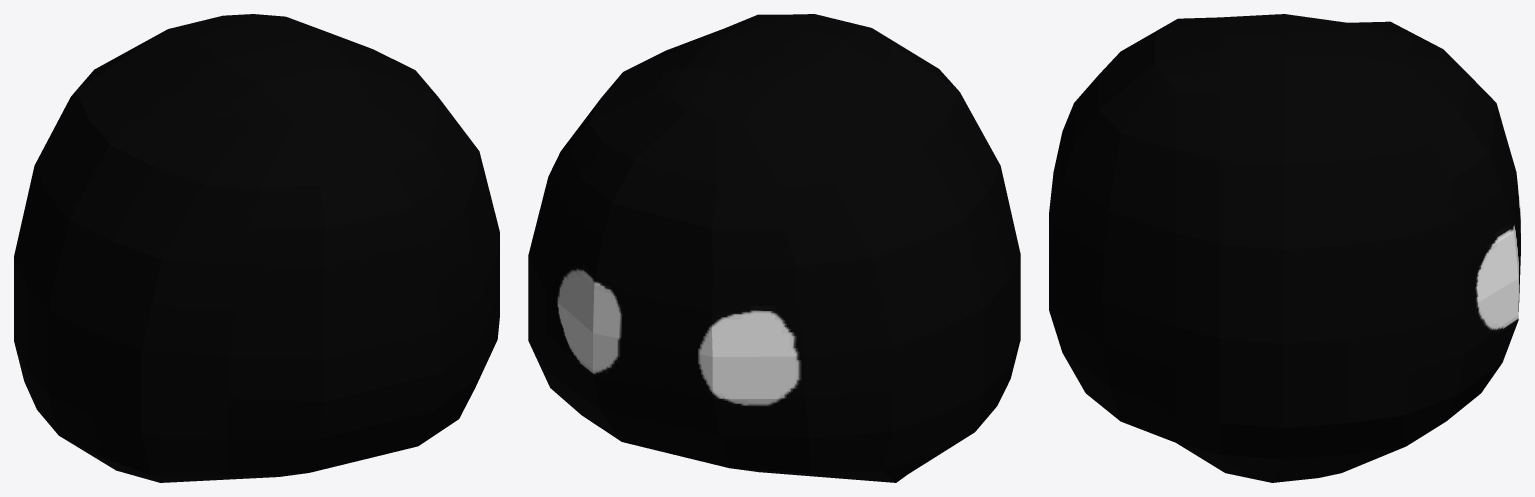
File: Emotions.obj
3 renders of one model, left to right at view 1: azimuth 30°, elevation 25°; view 2: azimuth 150°, elevation 25°; view 3: azimuth 270°, elevation 25°, orthographic.
Parts seen in each view (by area): view 1: Base31; view 2: Base31; view 3: Base31.
Boxes of the visible parts, bbox=[...] form: Base31: bbox=[14, 14, 499, 482]; Base31: bbox=[528, 14, 1020, 482]; Base31: bbox=[1049, 14, 1520, 482].
Bounding box in the file's own units: 4.48 × 3.84 × 4.32.
Materials: 1 (1 with a texture image).
